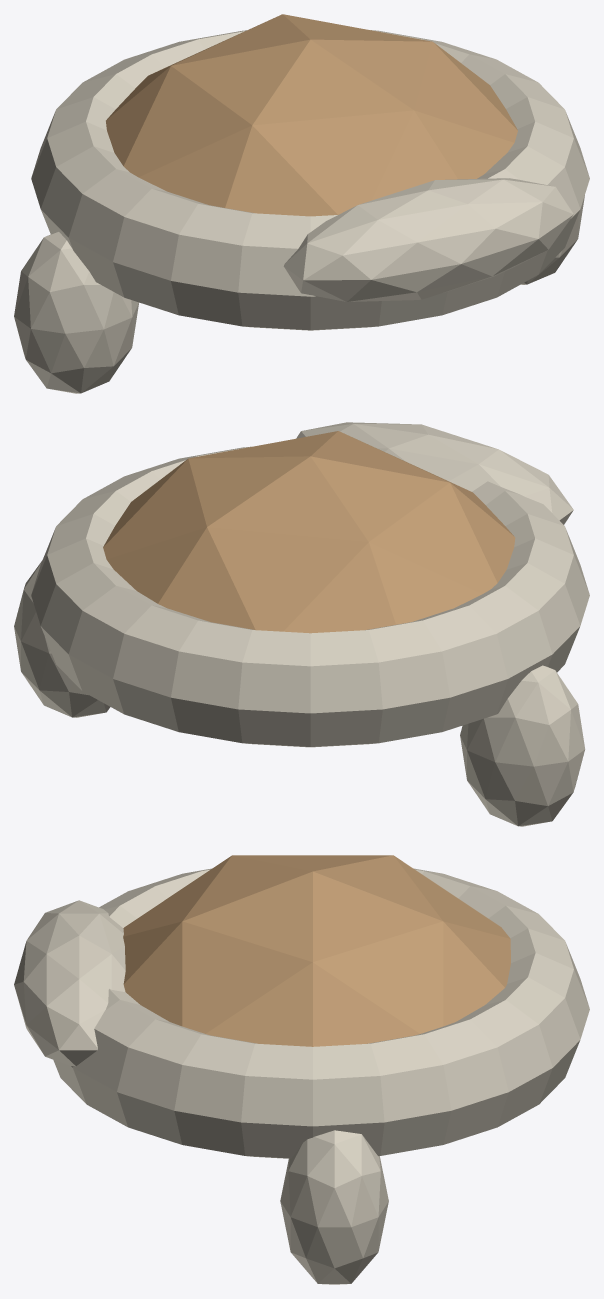
The model's file is hw-ushanka.glb.
3 renders of one model, top to bottom at view 1: azimuth 30°, elevation 25°; view 2: azimuth 150°, elevation 25°; view 3: azimuth 270°, elevation 25°, orthographic.
Visible parts, largest first — view 1: ushanka_crown, ushanka_furband, ushanka_frontflap, ushanka_flap_-1, ushanka_flap_1; view 2: ushanka_furband, ushanka_crown, ushanka_flap_-1, ushanka_frontflap, ushanka_flap_1; view 3: ushanka_furband, ushanka_crown, ushanka_frontflap, ushanka_flap_1.
Boxes of the visible parts, left/top/right/bottom form: ushanka_crown: left=106, top=14, right=517, bottom=216; ushanka_furband: left=31, top=30, right=589, bottom=330; ushanka_frontflap: left=283, top=178, right=573, bottom=301; ushanka_flap_-1: left=14, top=231, right=138, bottom=393; ushanka_flap_1: left=521, top=195, right=584, bottom=284; ushanka_furband: left=31, top=446, right=589, bottom=747; ushanka_crown: left=103, top=431, right=515, bottom=633; ushanka_flap_-1: left=460, top=665, right=585, bottom=826; ushanka_frontflap: left=296, top=422, right=573, bottom=524; ushanka_flap_1: left=14, top=560, right=110, bottom=717; ushanka_furband: left=53, top=868, right=589, bottom=1158; ushanka_crown: left=123, top=855, right=510, bottom=1046; ushanka_frontflap: left=14, top=900, right=125, bottom=1066; ushanka_flap_1: left=280, top=1130, right=388, bottom=1284.
Size of the model in its own units: 0.5841 by 0.31 by 0.53.
